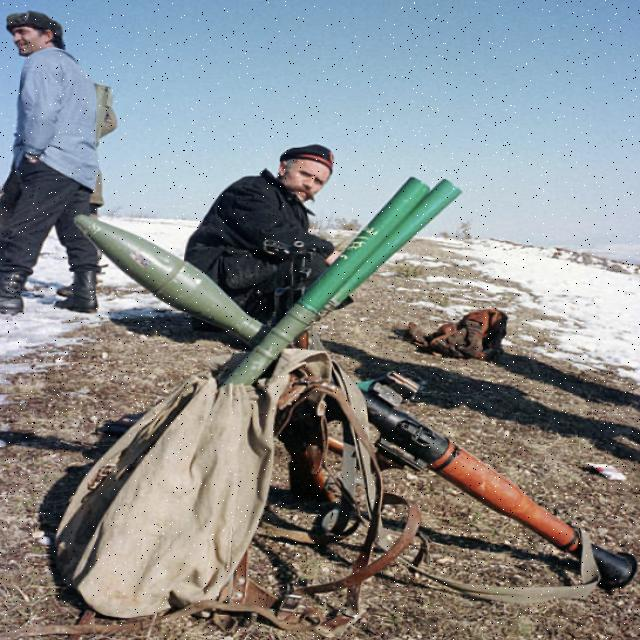bazooka: (72, 210, 640, 593)
